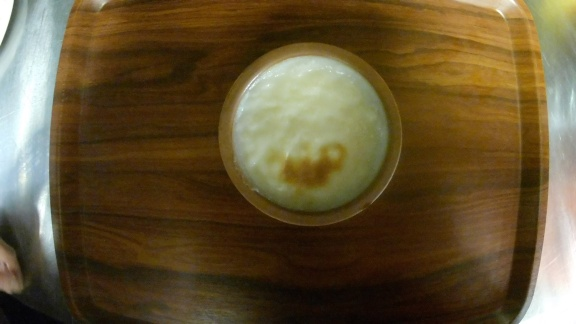sutlac: (216, 41, 404, 227)
